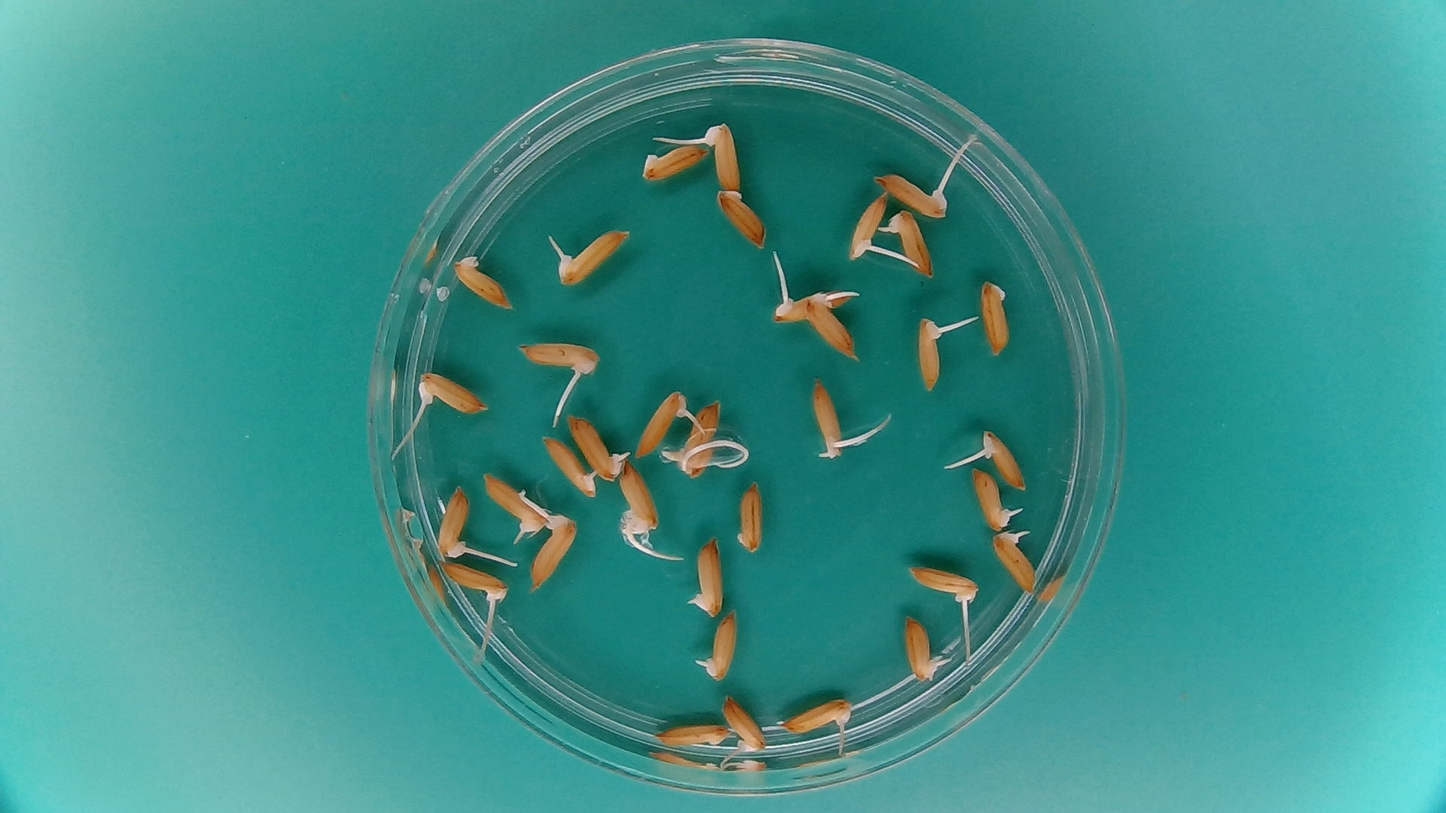no: (450, 252, 513, 312), (713, 187, 768, 249), (638, 140, 709, 182), (978, 277, 1012, 359), (651, 720, 731, 752), (734, 477, 766, 553)
yes: (477, 470, 544, 534), (560, 227, 627, 288), (569, 415, 629, 480), (529, 512, 578, 591), (634, 388, 688, 458), (801, 292, 857, 359), (541, 433, 597, 499), (874, 169, 950, 215), (905, 564, 980, 609), (888, 209, 936, 279), (990, 528, 1040, 595), (695, 608, 739, 684), (618, 459, 660, 537), (809, 377, 849, 458), (685, 534, 724, 616), (419, 370, 488, 416), (845, 190, 888, 263), (977, 433, 1030, 492), (682, 397, 720, 479), (780, 695, 856, 736), (433, 483, 473, 560), (716, 695, 764, 758), (901, 611, 942, 680), (770, 289, 853, 323), (972, 462, 1013, 529), (440, 564, 510, 603), (914, 312, 947, 392), (518, 343, 596, 376), (705, 123, 743, 190)
